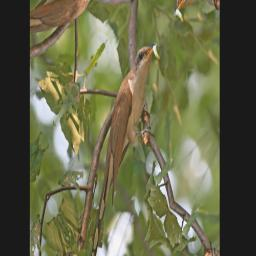Cuckoo: (48, 28, 195, 256)
